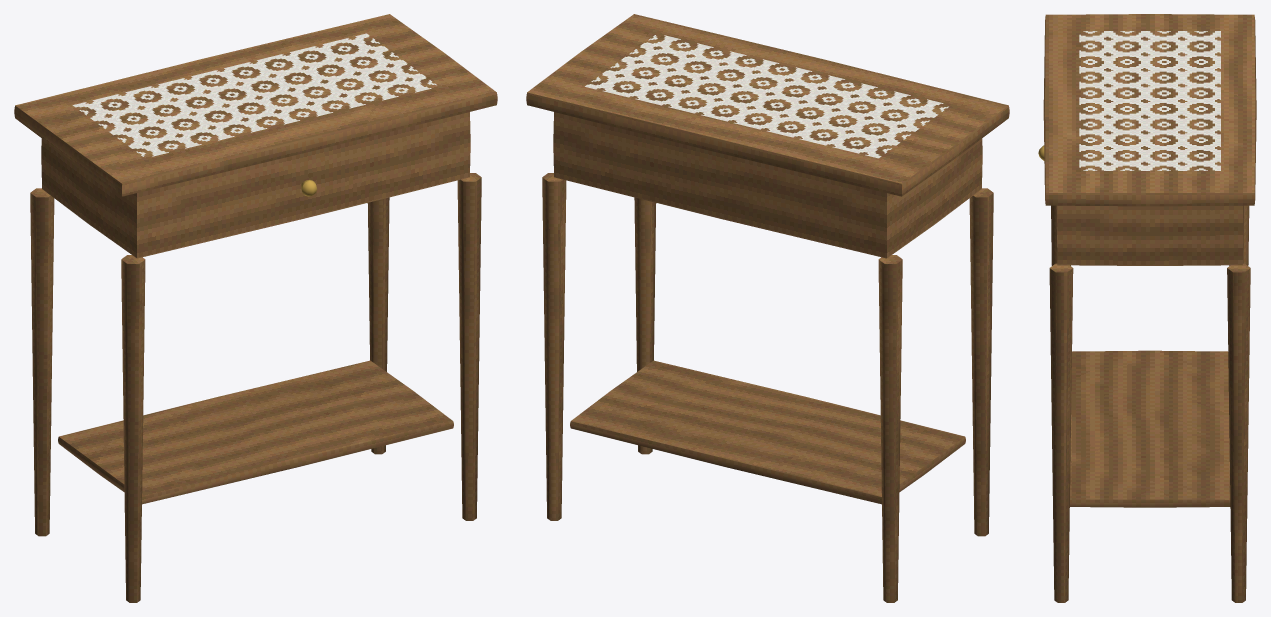
File: side_table.glb
The picture shows the model from 3 angles, left to right: view 1: azimuth 30°, elevation 25°; view 2: azimuth 150°, elevation 25°; view 3: azimuth 270°, elevation 25°; orthographic projection. The views are drawn at different scales.
Visible parts, largest first — view 1: top, shelf, drawer_box, leg (×4), runner; view 2: top, shelf, drawer_box, leg (×4), runner; view 3: top, shelf, leg (×4), runner, drawer_box.
Boxes of the visible parts, left/top/right/bottom form: top: left=14, top=14, right=497, bottom=196; shelf: left=58, top=360, right=453, bottom=504; drawer_box: left=41, top=112, right=470, bottom=258; leg (×4): left=30, top=173, right=481, bottom=602; runner: left=72, top=33, right=436, bottom=156; top: left=526, top=14, right=1009, bottom=196; shelf: left=570, top=360, right=965, bottom=504; drawer_box: left=553, top=112, right=982, bottom=258; leg (×4): left=542, top=173, right=993, bottom=602; runner: left=585, top=35, right=948, bottom=158; top: left=1043, top=14, right=1256, bottom=206; shelf: left=1070, top=350, right=1230, bottom=507; leg (×4): left=1049, top=205, right=1250, bottom=602; runner: left=1079, top=31, right=1220, bottom=170; drawer_box: left=1056, top=205, right=1243, bottom=265.
Size of the model in its own units: 0.72 by 0.782 by 0.369.
3 materials, 2 textured.
